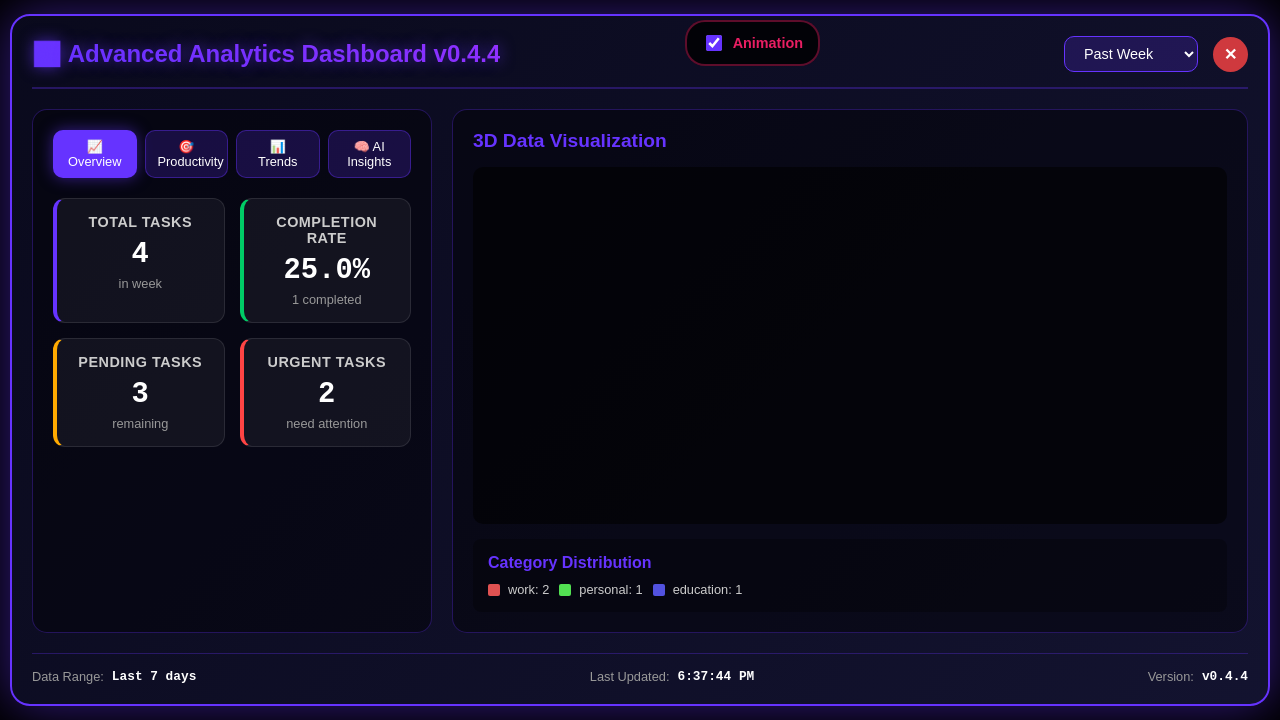
Scenario: AdvancedAnalyticsDashboard › switches between metric tabs correctly
The width and height of the screenshot is (1280, 720).
Expected: the heading "Total Tasks" is shown, [88,214,192,230]
Note: Switch to productivity
Click the button "🎯 Productivity" at (186, 154), box [144,130,228,178]
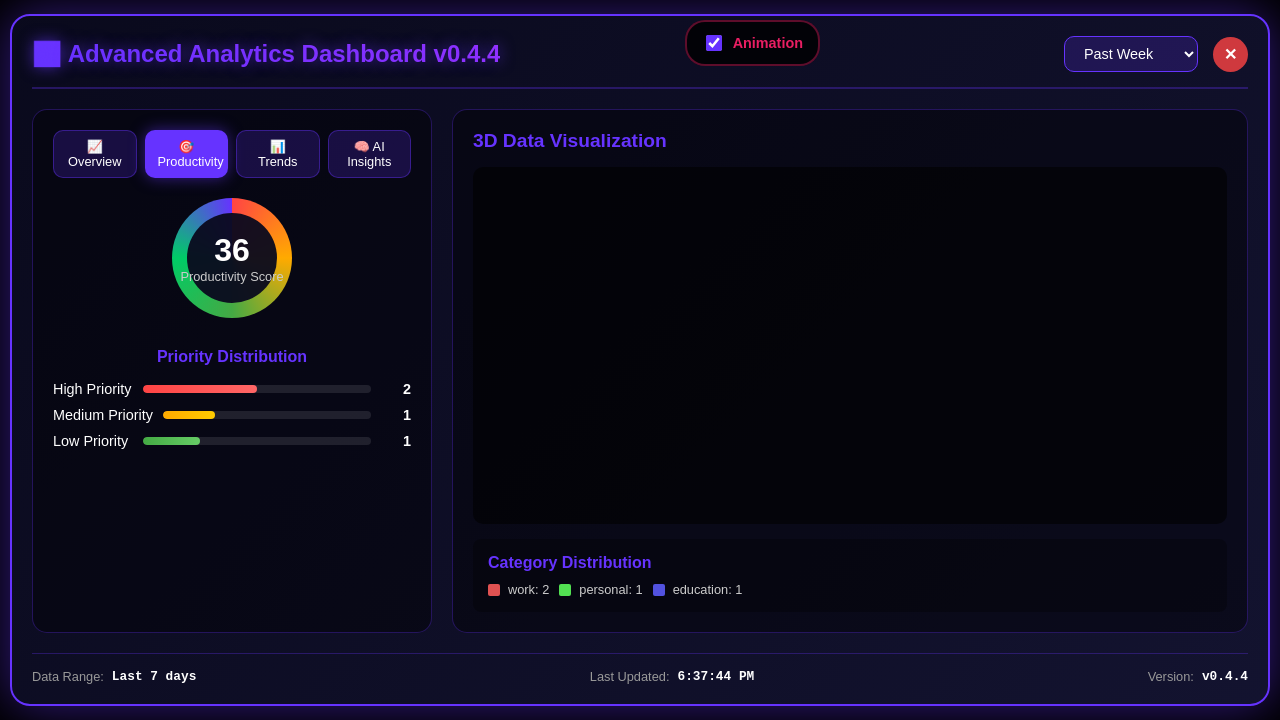
Now the text "Productivity Score" is shown, box [180,269,284,284]
Now the heading "Priority Distribution" is shown, box [157,348,307,365]
Note: Switch to trends
Click the button "📊 Trends" at (278, 154), box [236,130,320,178]
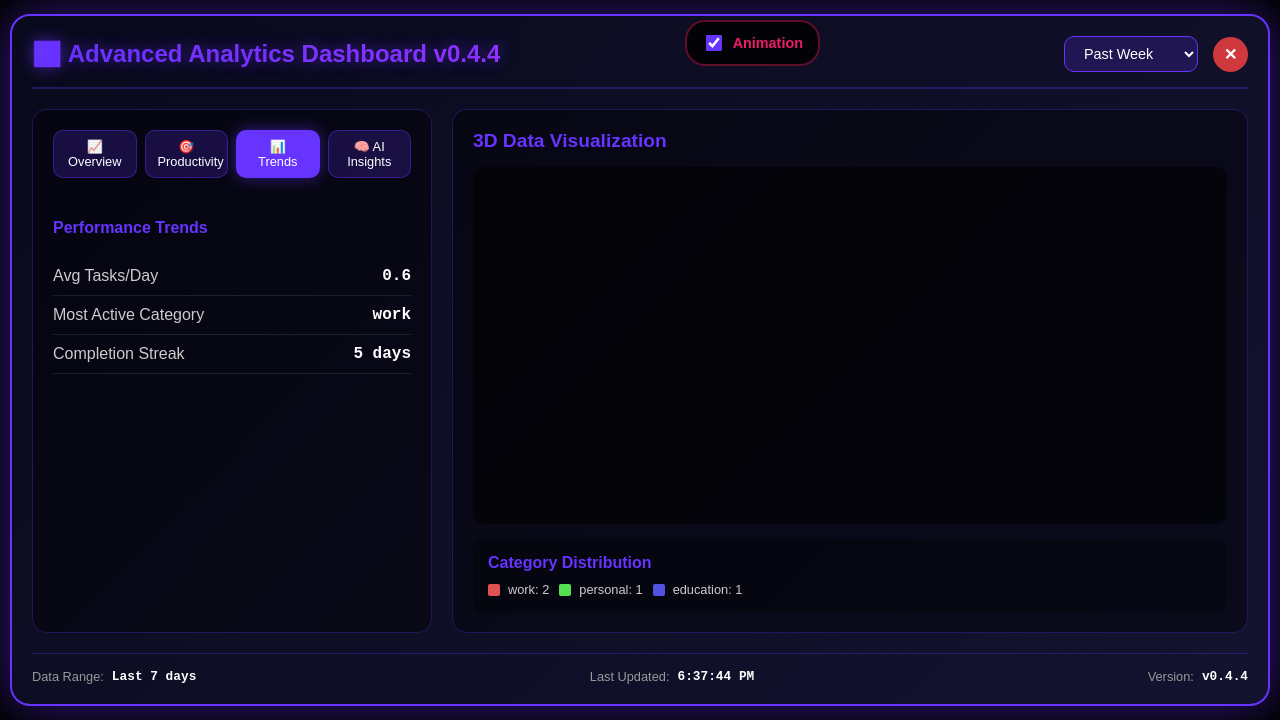
Now the heading "Performance Trends" is shown, box [53,219,208,236]
Now the text "Avg Tasks/Day" is shown, box [53,267,158,285]
Note: Switch to insights
Click the button "🧠 AI Insights" at (369, 154), box [328,130,411,178]
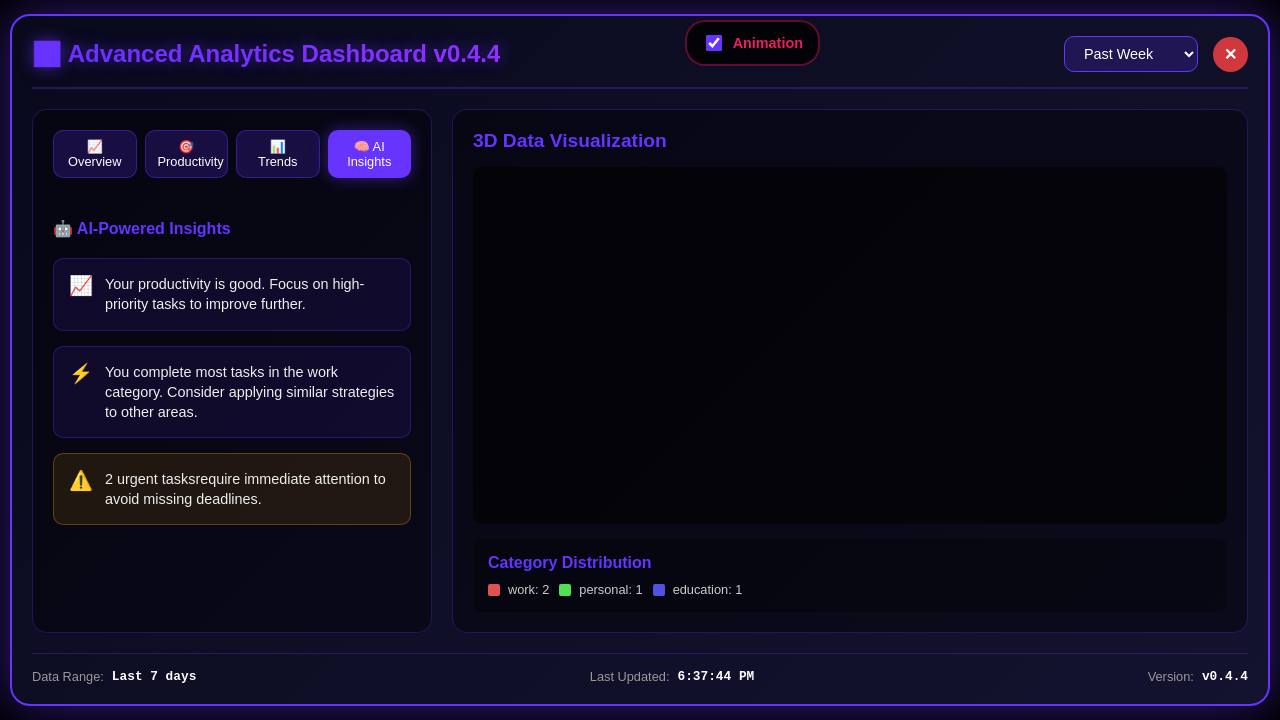
Now the heading "🤖 AI-Powered Insights" is shown, box [53,220,231,237]
